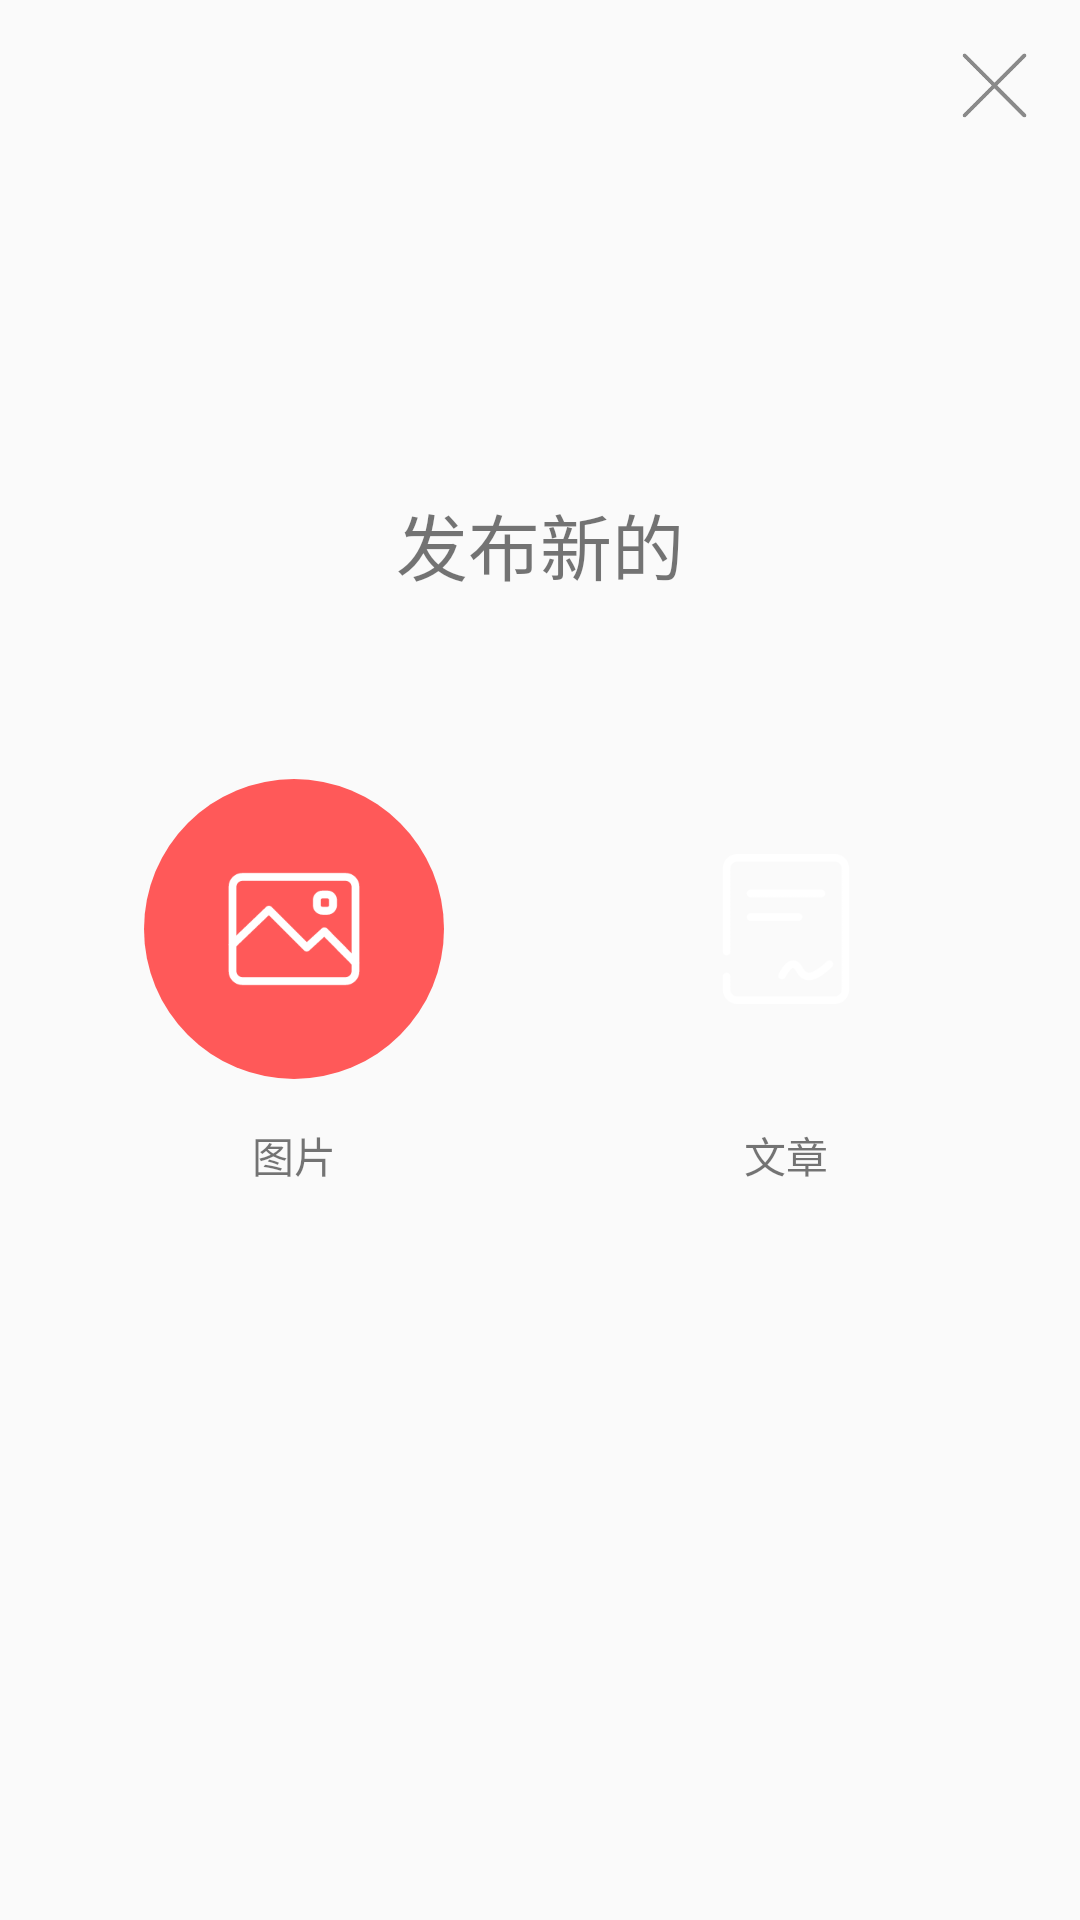

Icons on this 1080 x 1920 Android screen, each with its box as bbox=[x1, y1, x2, y2]:
add photo: bbox=[144, 779, 444, 1079]
